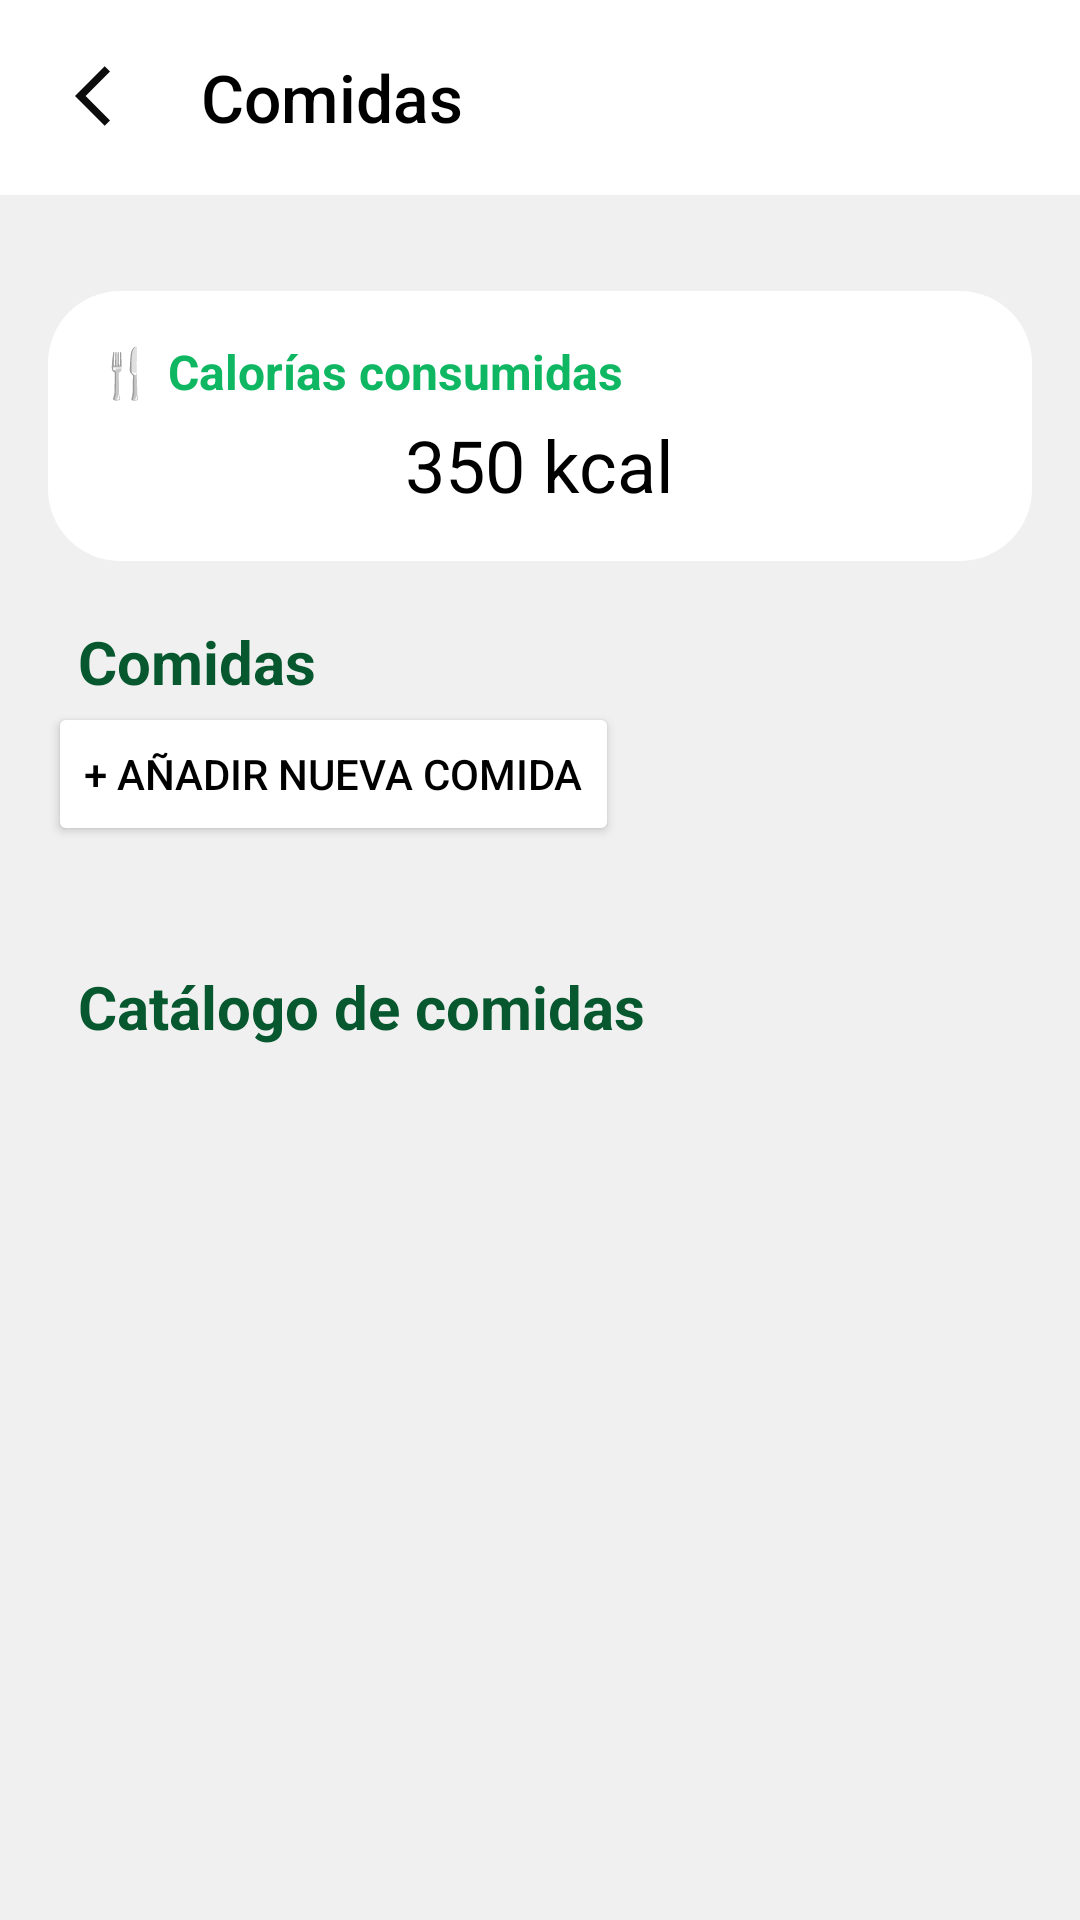

Icon bounding boxes for this 1080px×1920px phone screenshot, format (x1,y1,x2,y2):
Back: (75,66,110,126)
